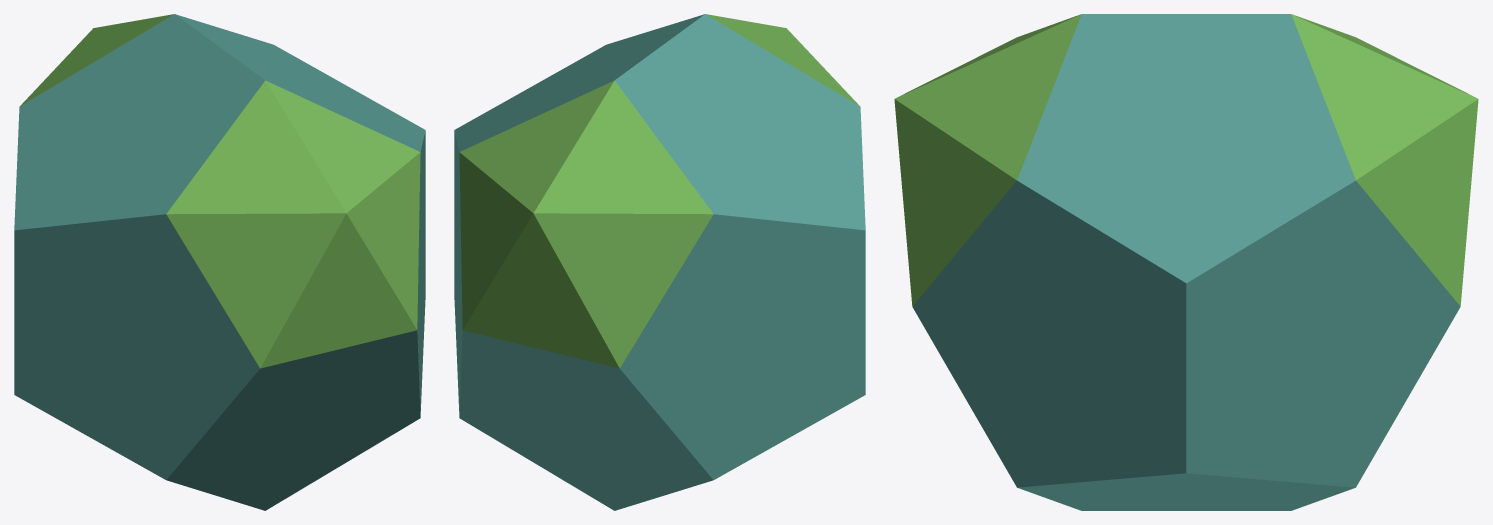
The model's file is J60.DodecaedroMetabiaumentado.gltf.
The picture shows the model from 3 angles, left to right: view 1: azimuth 30°, elevation 25°; view 2: azimuth 150°, elevation 25°; view 3: azimuth 270°, elevation 25°; orthographic projection. The views are drawn at different scales.
Parts seen in each view (by area): view 1: J60.DodecaedroMetabiaumentado; view 2: J60.DodecaedroMetabiaumentado; view 3: J60.DodecaedroMetabiaumentado.
Boxes of the visible parts, <box> form: J60.DodecaedroMetabiaumentado: <box>14,14,425,510</box>; J60.DodecaedroMetabiaumentado: <box>454,14,865,510</box>; J60.DodecaedroMetabiaumentado: <box>894,14,1478,510</box>.
Size of the model in its own units: 15.97 by 15.97 by 17.01.
